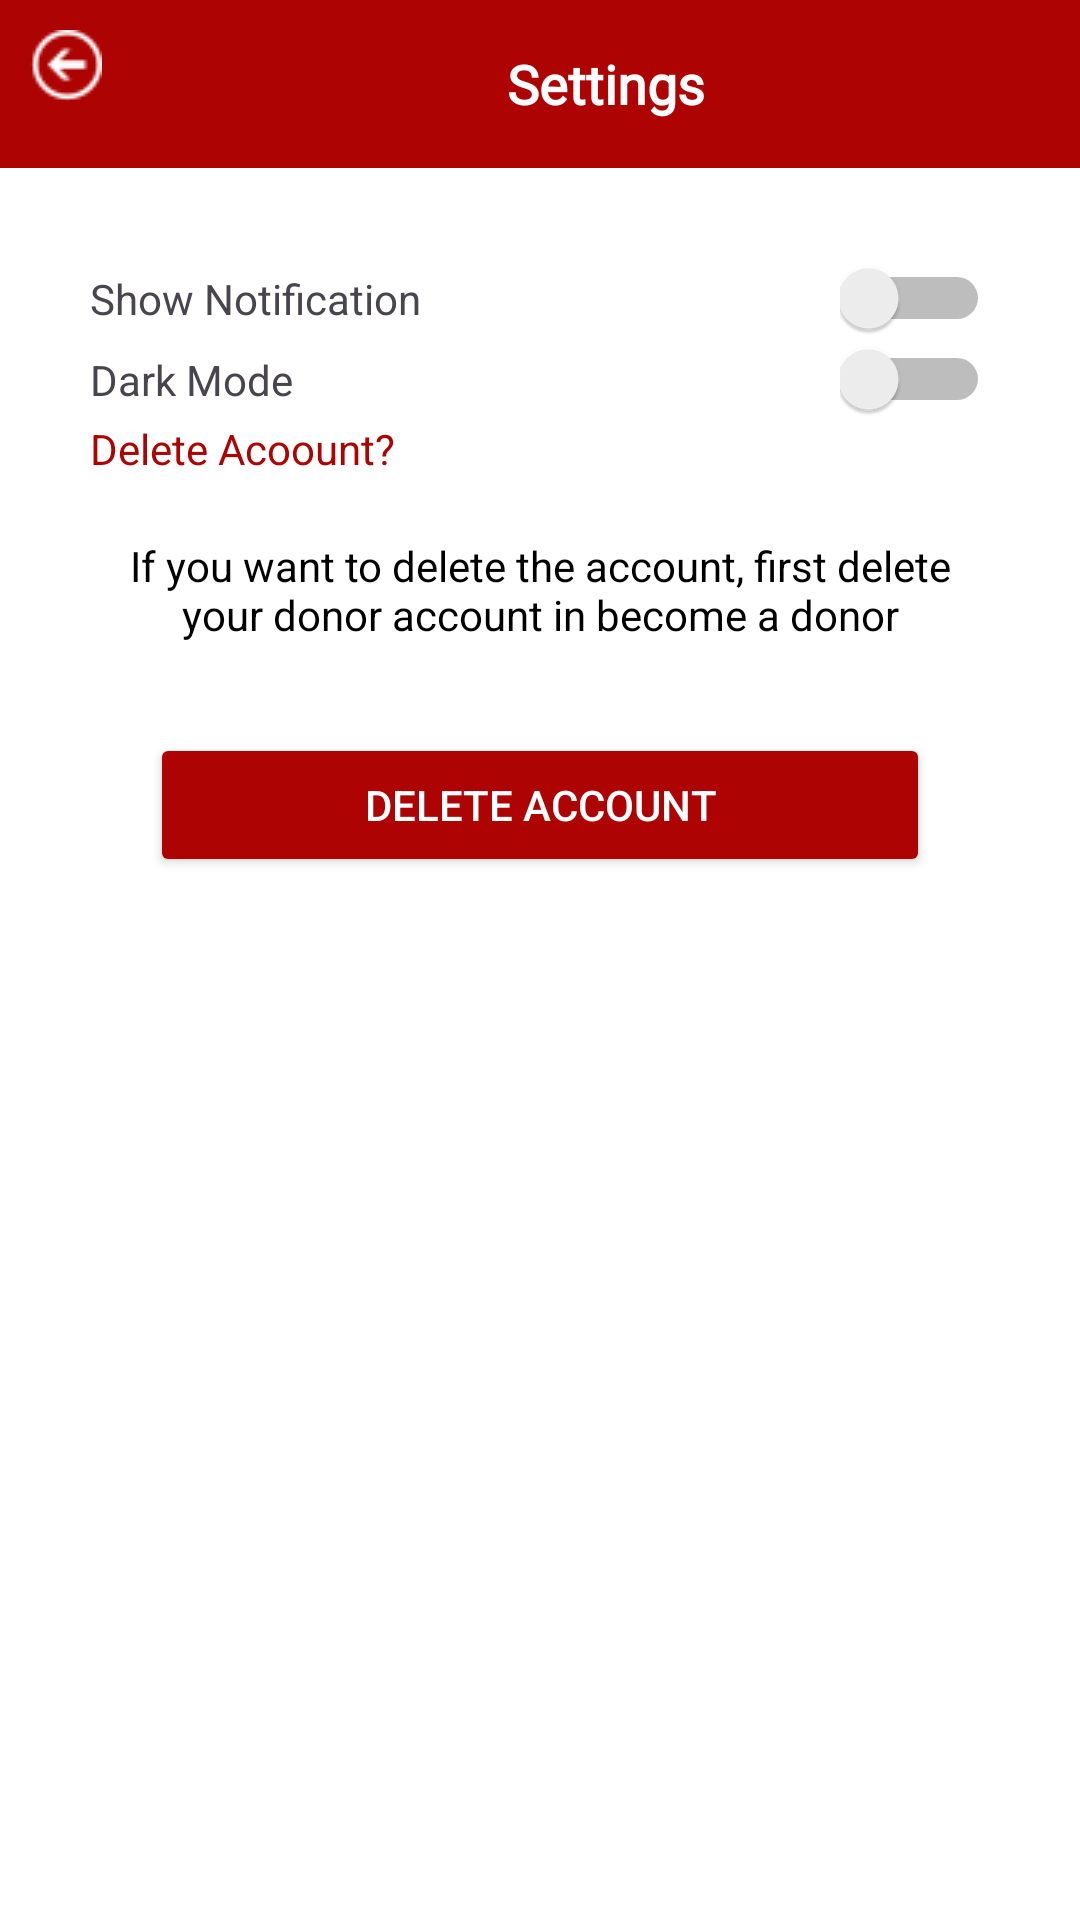

Icon click points for this 1080x1920 phone screenshot, format (x,y):
backarrow: (67,65)
